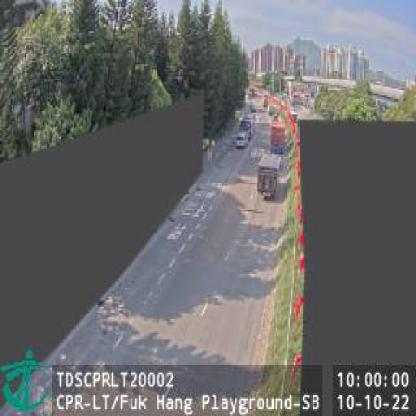Car: (234, 132, 249, 150)
Truck: (258, 156, 278, 199), (271, 122, 285, 152)
